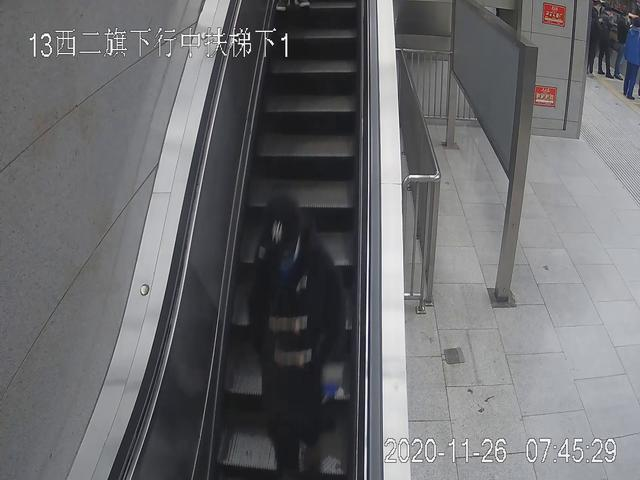person: (251, 198, 346, 480), (622, 22, 640, 100), (596, 8, 613, 75)
